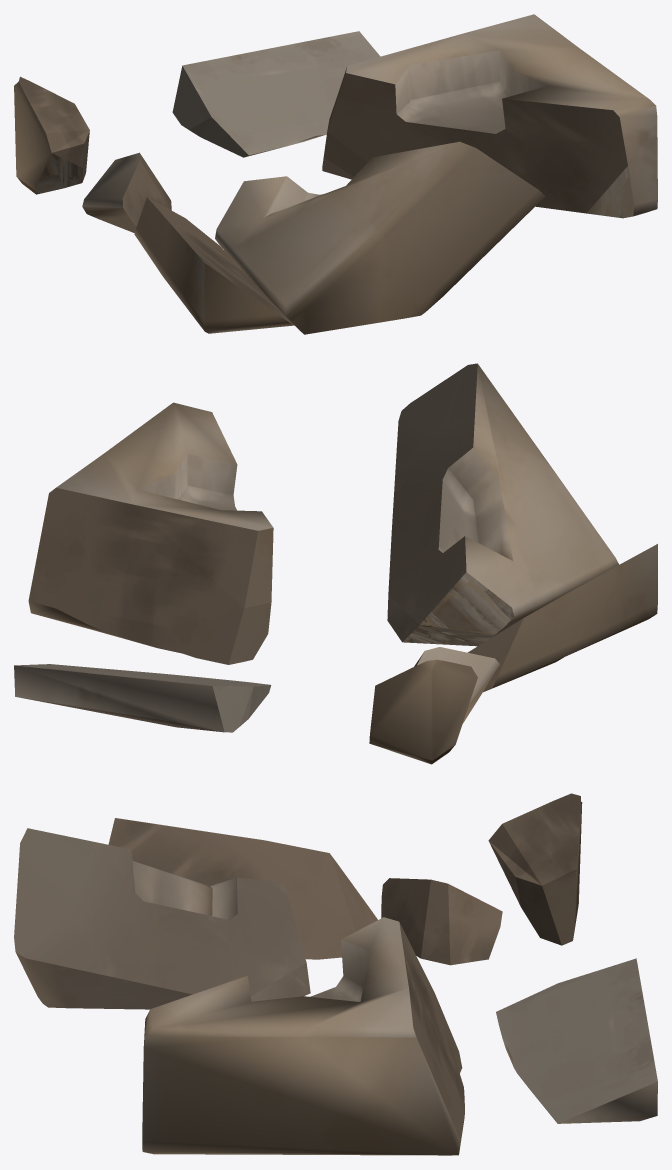
The model's file is SM_SHTRD_Arrow.fbx.
3 views of the same model, one above another, from view 1: azimuth 30°, elevation 25°; view 2: azimuth 150°, elevation 25°; view 3: azimuth 270°, elevation 25° (orthographic). The views are drawn at different scales.
Visible parts, largest first — view 1: SM_Mold.004_cell.002; view 2: SM_Mold.004_cell.002; view 3: SM_Mold.004_cell.002.
Part boxes in pixels (x1,y1,x2,y2): SM_Mold.004_cell.002: [14, 14, 657, 334]; SM_Mold.004_cell.002: [14, 363, 657, 764]; SM_Mold.004_cell.002: [14, 793, 657, 1155].
Bounding box in the file's own units: 29.06 × 10.15 × 30.66.
